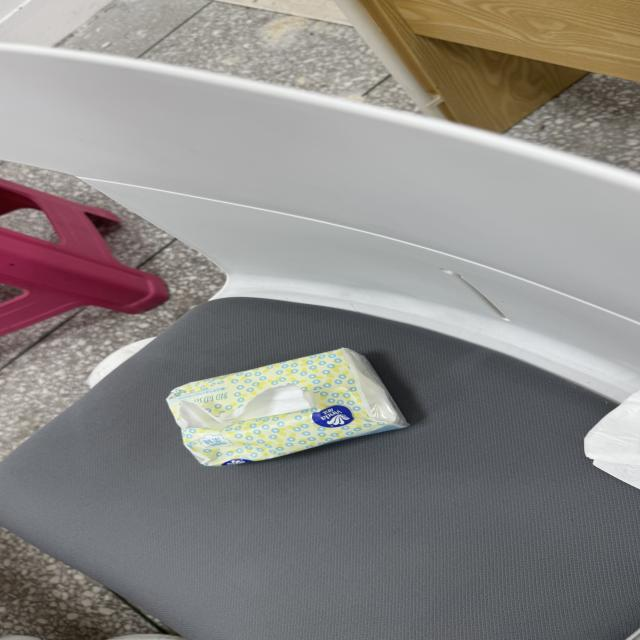tissue: (168, 348, 408, 465), (585, 392, 639, 488)
